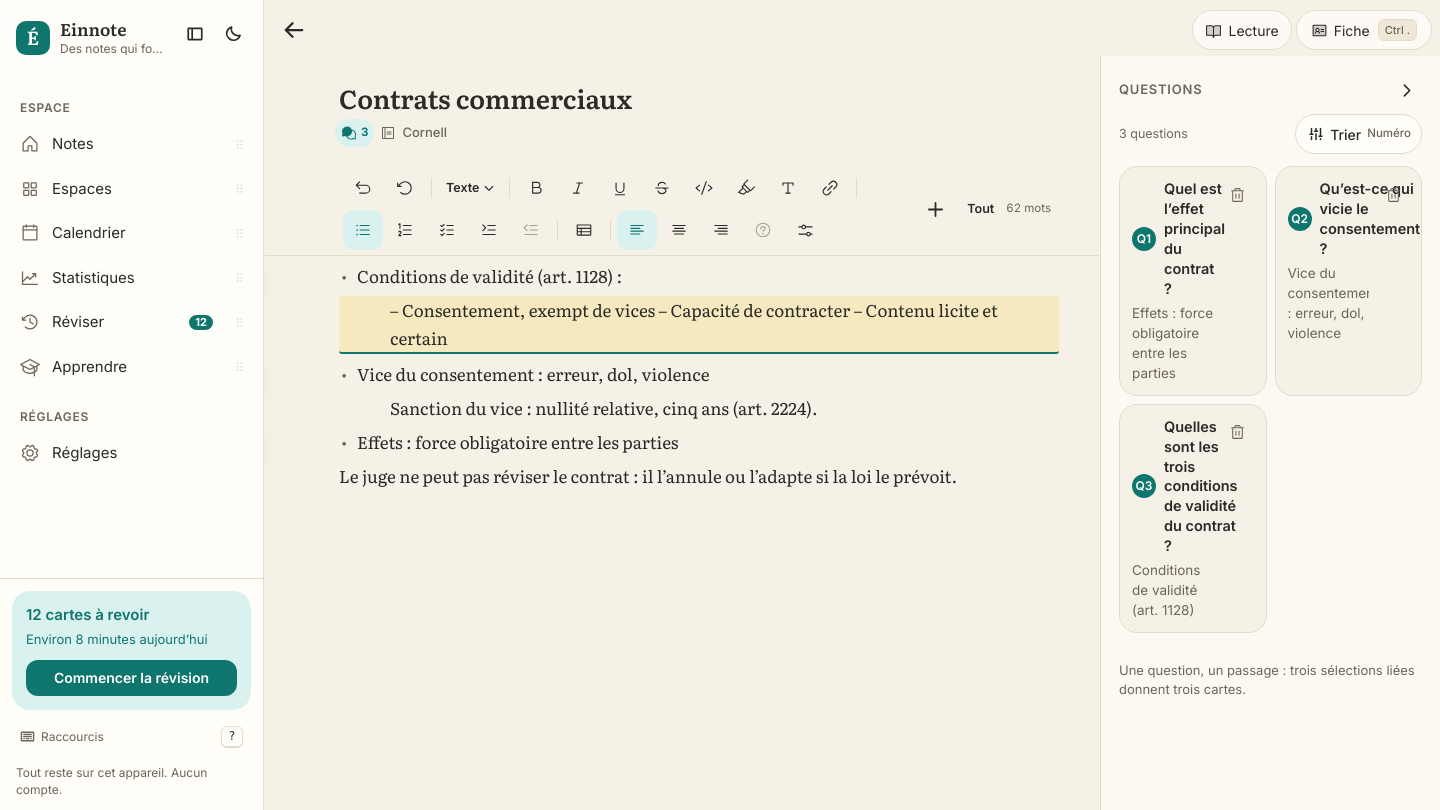
Test: étiquettes — le menu de # › écrit l’étiquette choisie à la place du #début
Click the text box named "Contenu de la note". click: click(699, 376)
box: [339, 262, 1059, 490]
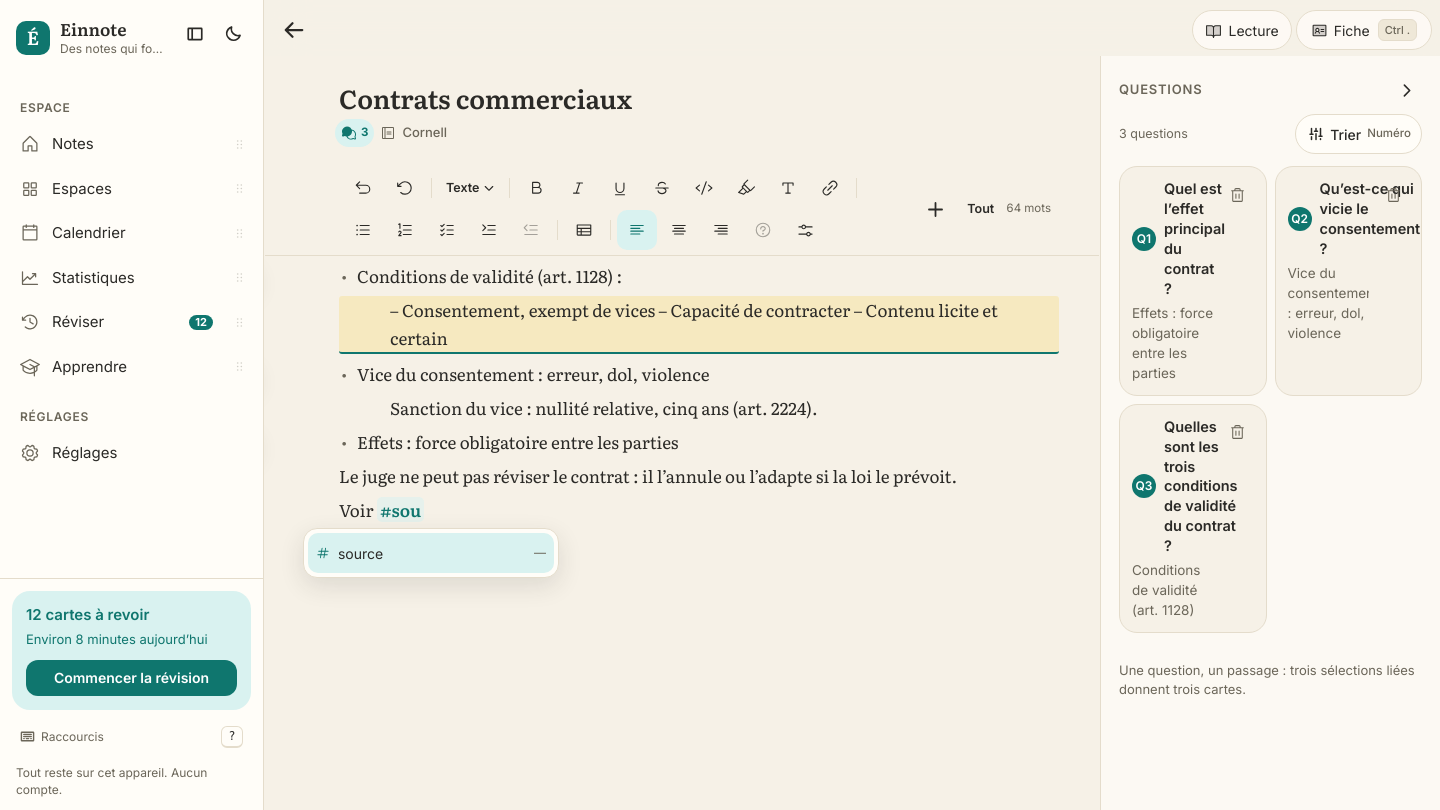
Click the option "source —". click: click(431, 553)
box: [308, 533, 554, 573]
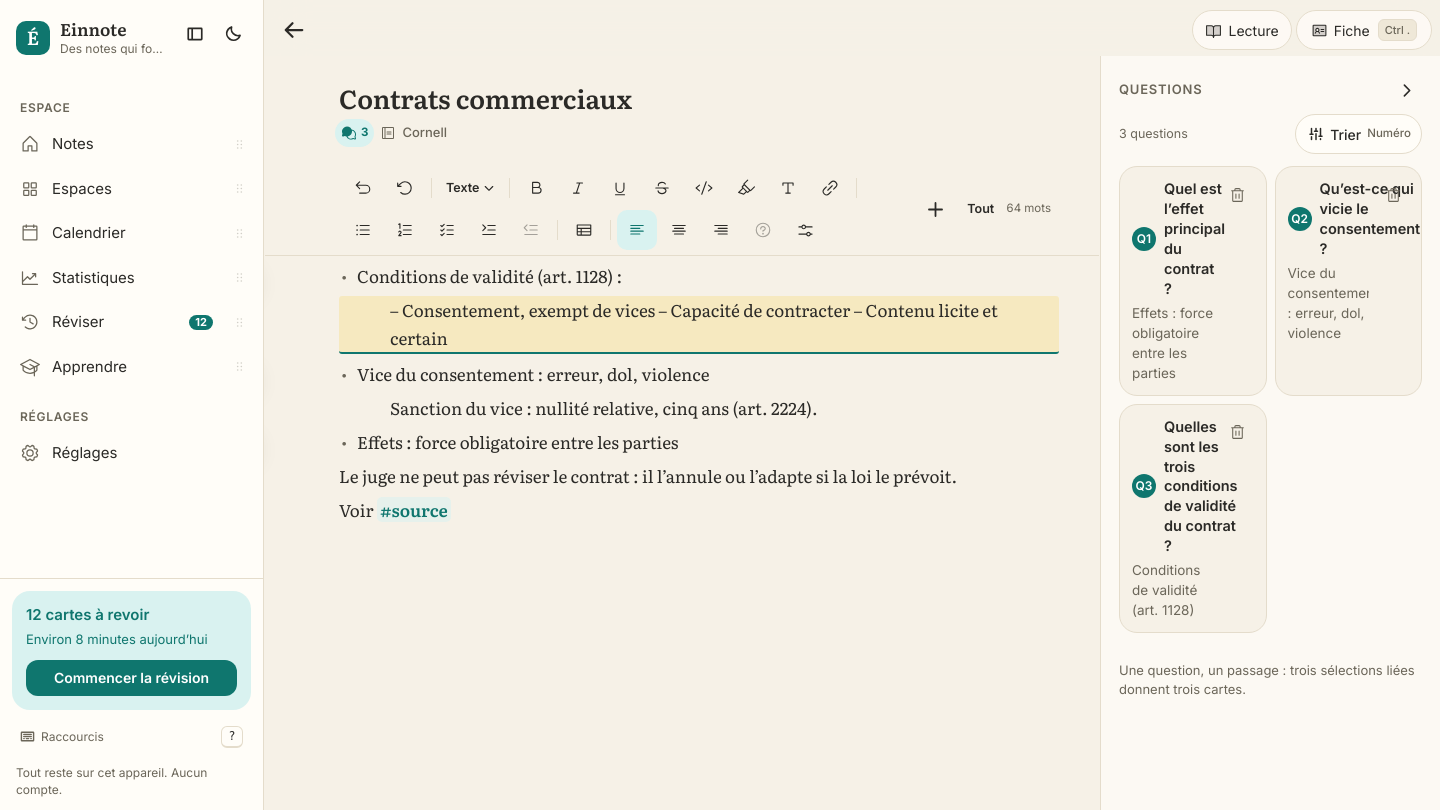
Result: the text box named "Contenu de la note" shows "#source" at [339, 262, 1059, 524]
Result: the field labelled "Contenu de la note" no longer shows "#sou"
Result: the list "source —" is gone
